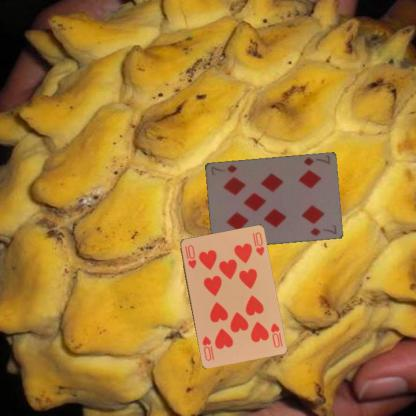10h: (182, 242, 198, 270), (267, 320, 281, 349)
7d: (301, 153, 331, 167)
